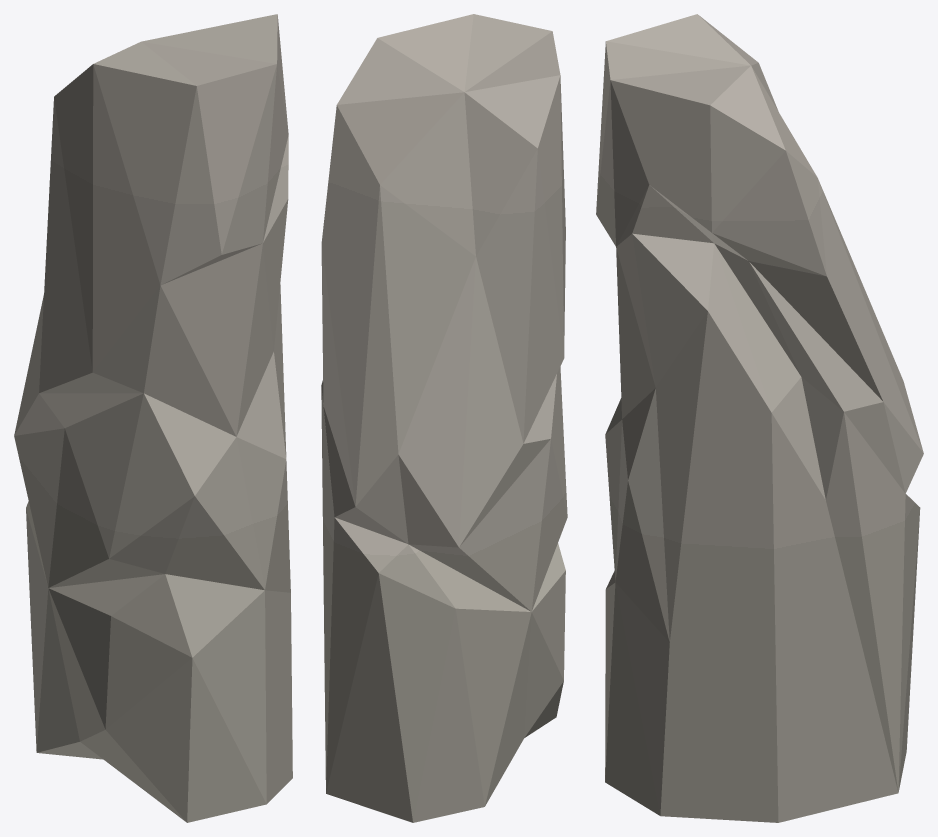
File: YN_Pillar3.fbx
The picture shows the model from 3 angles, left to right: view 1: azimuth 30°, elevation 25°; view 2: azimuth 150°, elevation 25°; view 3: azimuth 270°, elevation 25°; orthographic projection. The views are drawn at different scales.
Parts seen in each view (by area): view 1: Pillar3; view 2: Pillar3; view 3: Pillar3.
Part boxes in pixels (left/top/right/bottom): Pillar3: left=14, top=14, right=292, bottom=822; Pillar3: left=321, top=14, right=567, bottom=822; Pillar3: left=596, top=14, right=923, bottom=822.
Bounding box in the file's own units: 0.8785 × 3.01 × 1.25.
